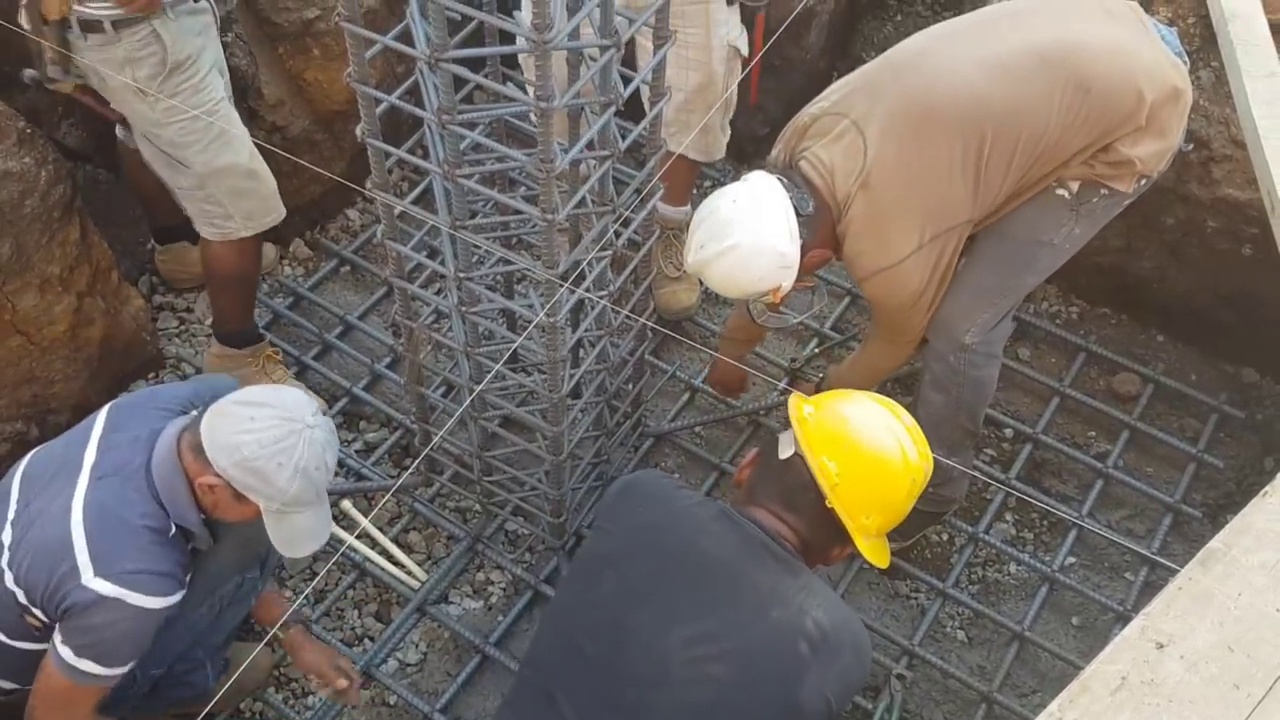helmet: (779, 386, 934, 569), (684, 171, 799, 304)
helmet-off: (179, 378, 333, 567)
helmet-on: (740, 388, 934, 574), (684, 152, 844, 308)
person: (680, 0, 1196, 519), (489, 384, 934, 718), (11, 346, 377, 714), (0, 0, 290, 369), (504, 3, 753, 330)
